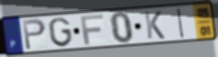0: (107, 11, 135, 45)
F: (79, 13, 105, 46)
G: (47, 17, 74, 49)
I: (177, 7, 186, 40)
K: (143, 10, 166, 40)
P: (21, 18, 47, 51)
